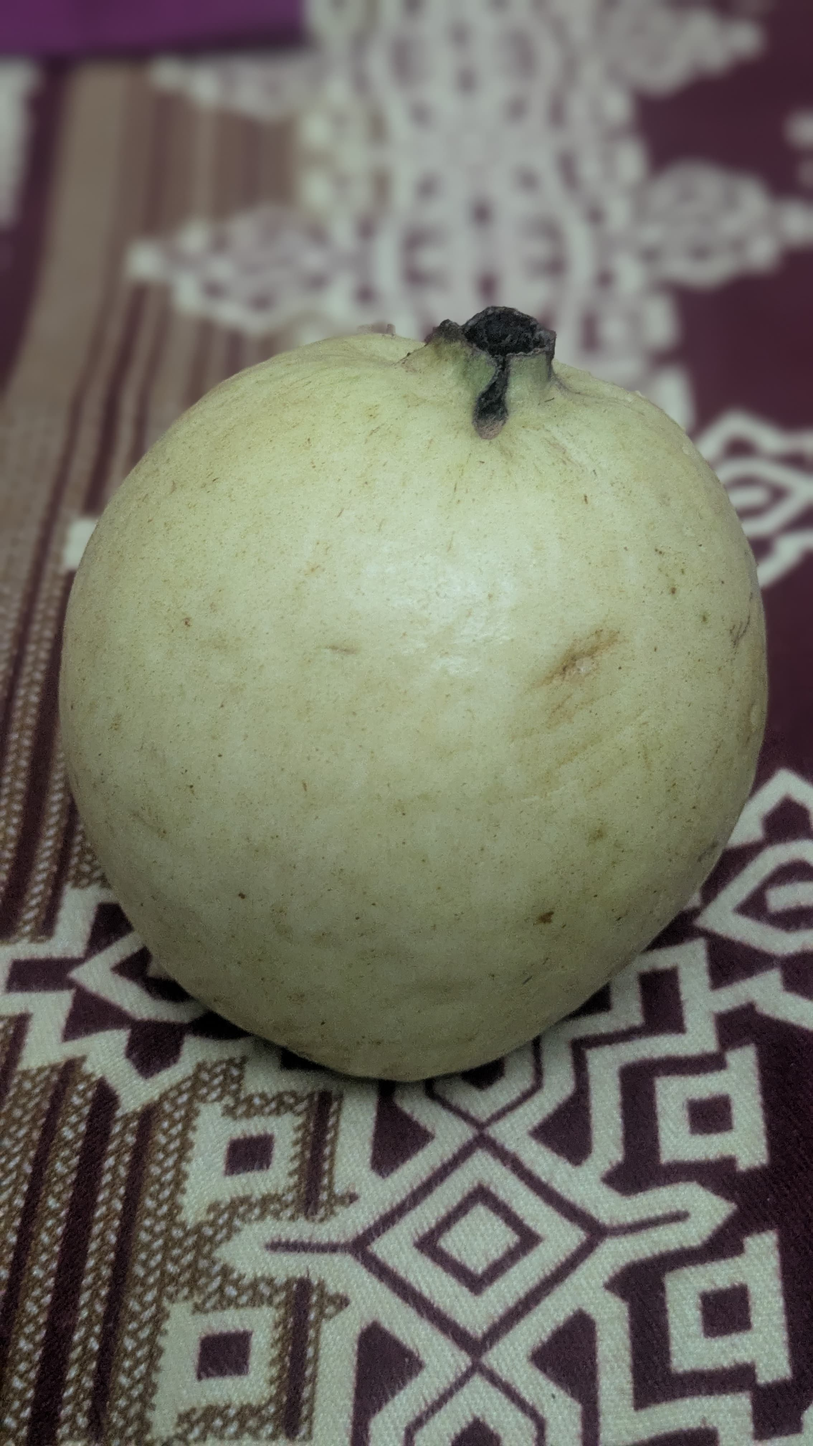guava: (164, 0, 663, 1253)
